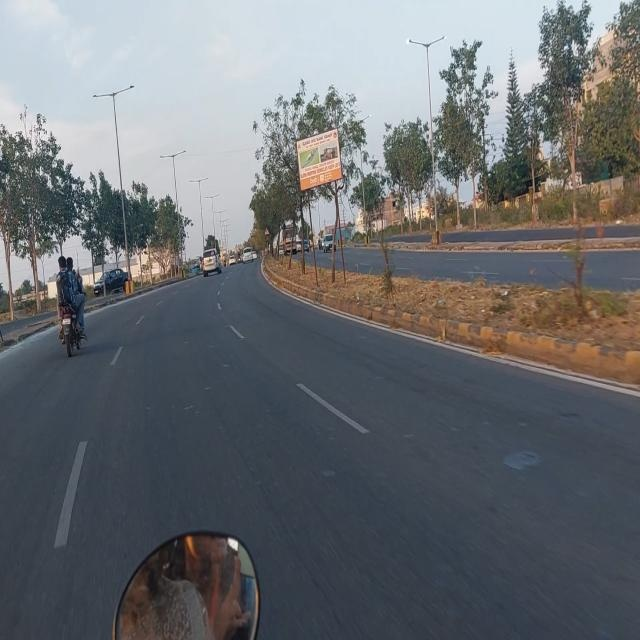bien_nguy_hiem: (264, 227, 270, 236)
